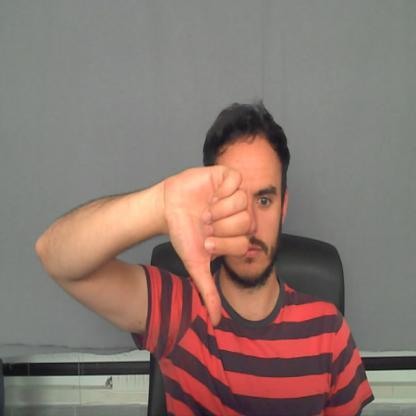thumbs-down: (171, 163, 253, 328)
